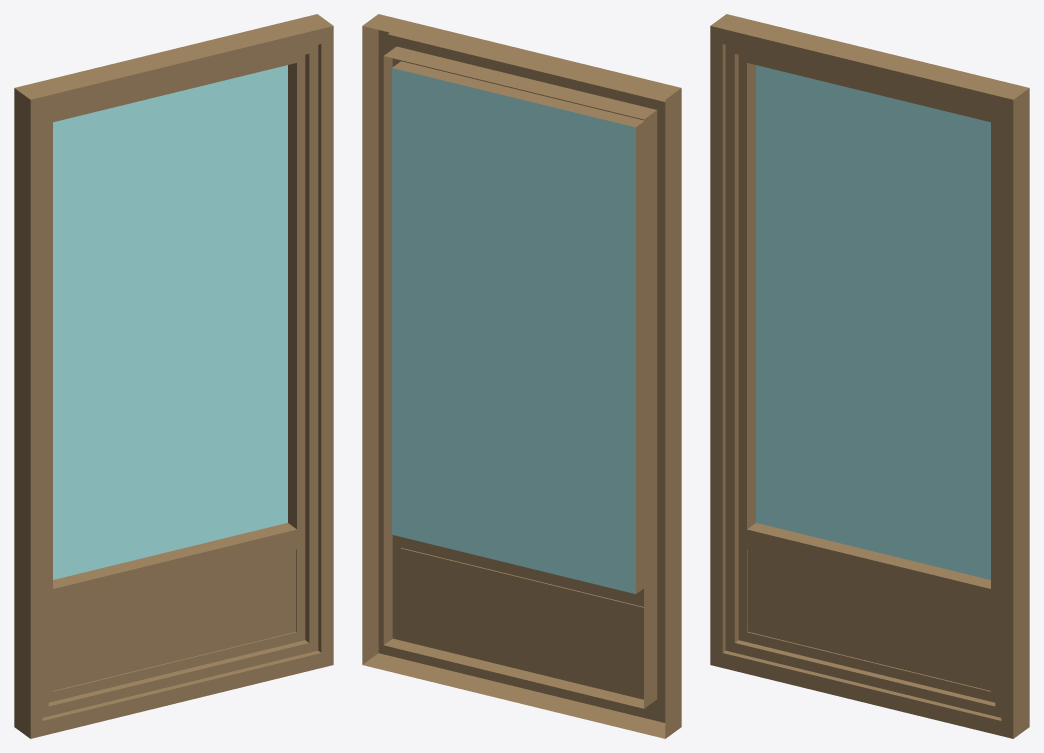
File: WINDOW_STORE_SIDE.fbx
3 views of the same model, side by side, from view 1: azimuth 30°, elevation 25°; view 2: azimuth 150°, elevation 25°; view 3: azimuth 330°, elevation 25° (orthographic).
Parts seen in each view (by area): view 1: sidewindow_tall2; view 2: sidewindow_tall2; view 3: sidewindow_tall2.
Boxes of the visible parts, box(x1,y1,x2,y2) form: sidewindow_tall2: box(14, 14, 333, 738); sidewindow_tall2: box(362, 14, 681, 738); sidewindow_tall2: box(710, 14, 1029, 738).
Bounding box in the file's own units: 174 × 350 × 16.13.
